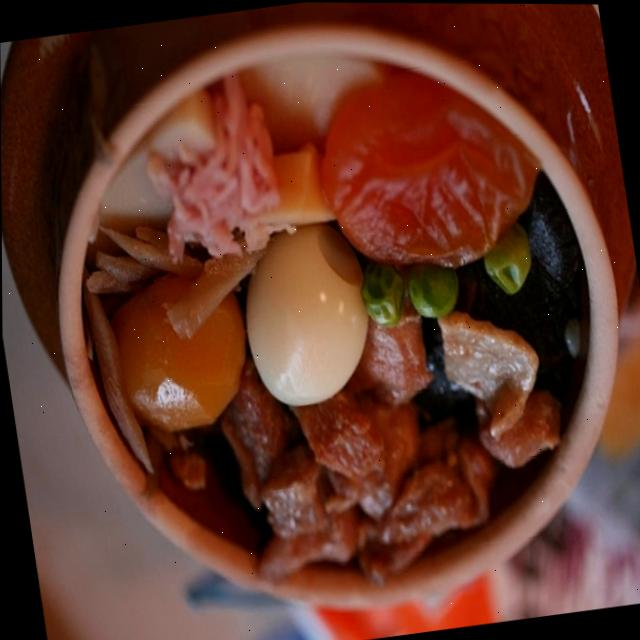炸货点心: (44, 0, 475, 640)
熟制海鲜: (44, 0, 475, 640)
